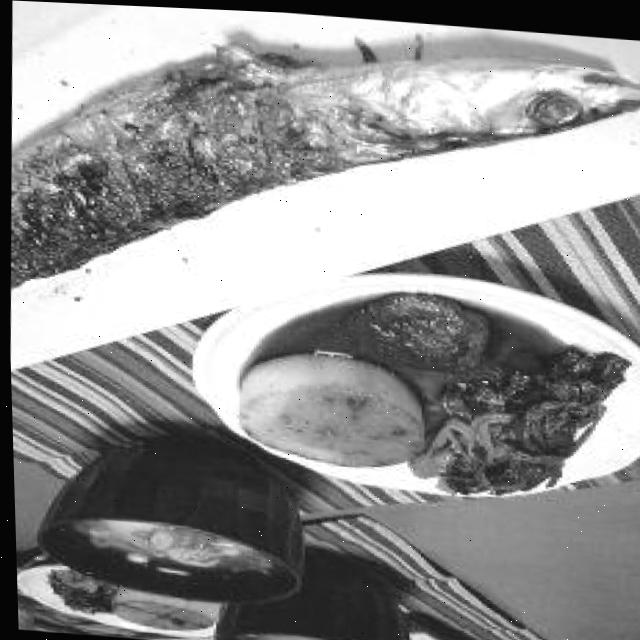熟制海鲜: (0, 18, 640, 351)
